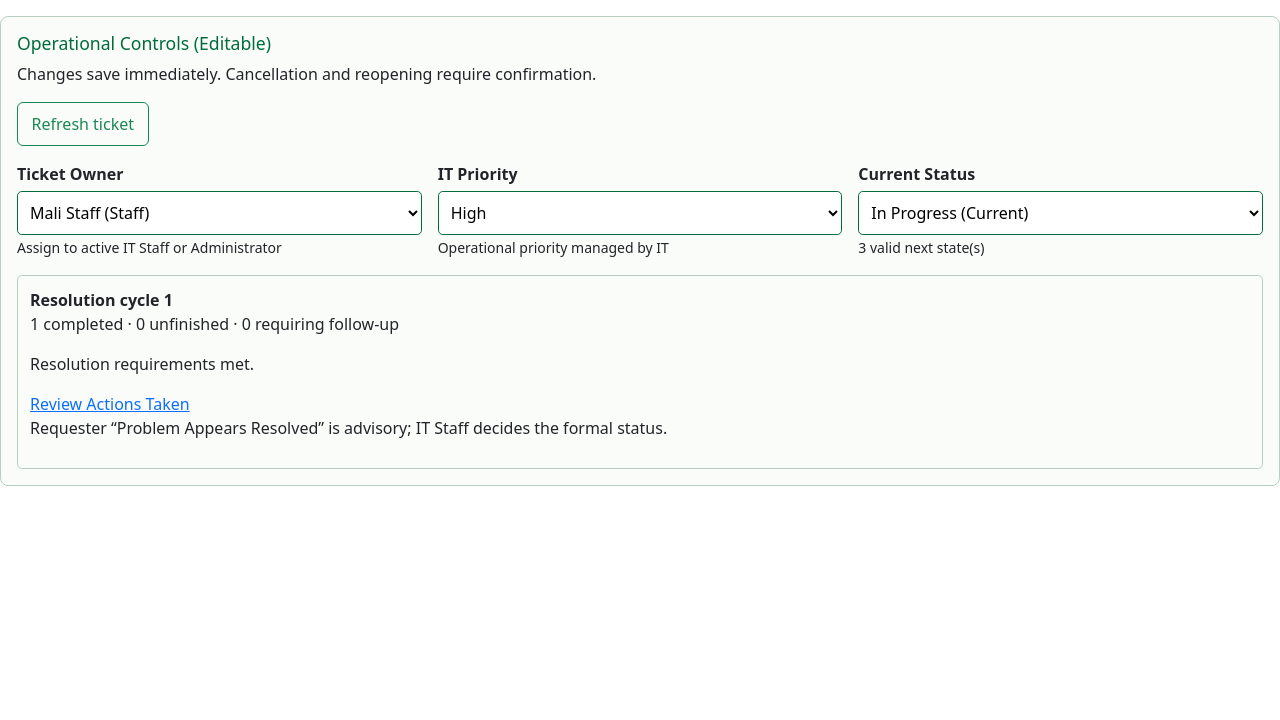
Test: UI-05: allowed transitions and resolution requirements › saves a permitted transition with the observed version and refreshes once
Select "→ Move to Resolved" in the dropdown labelled "Current Status" at [1061, 213], box [858,191,1263,235]
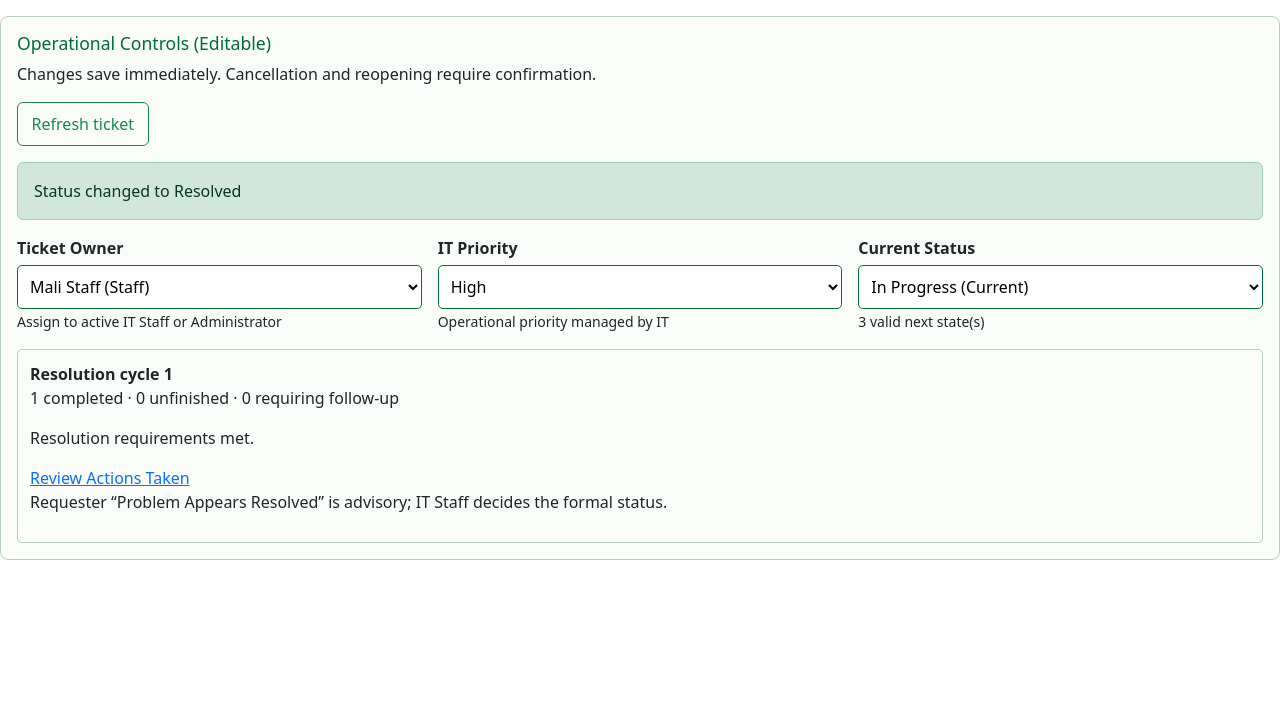
Now the text "Status changed to Resolved" is shown, box [17,162,1263,220]
